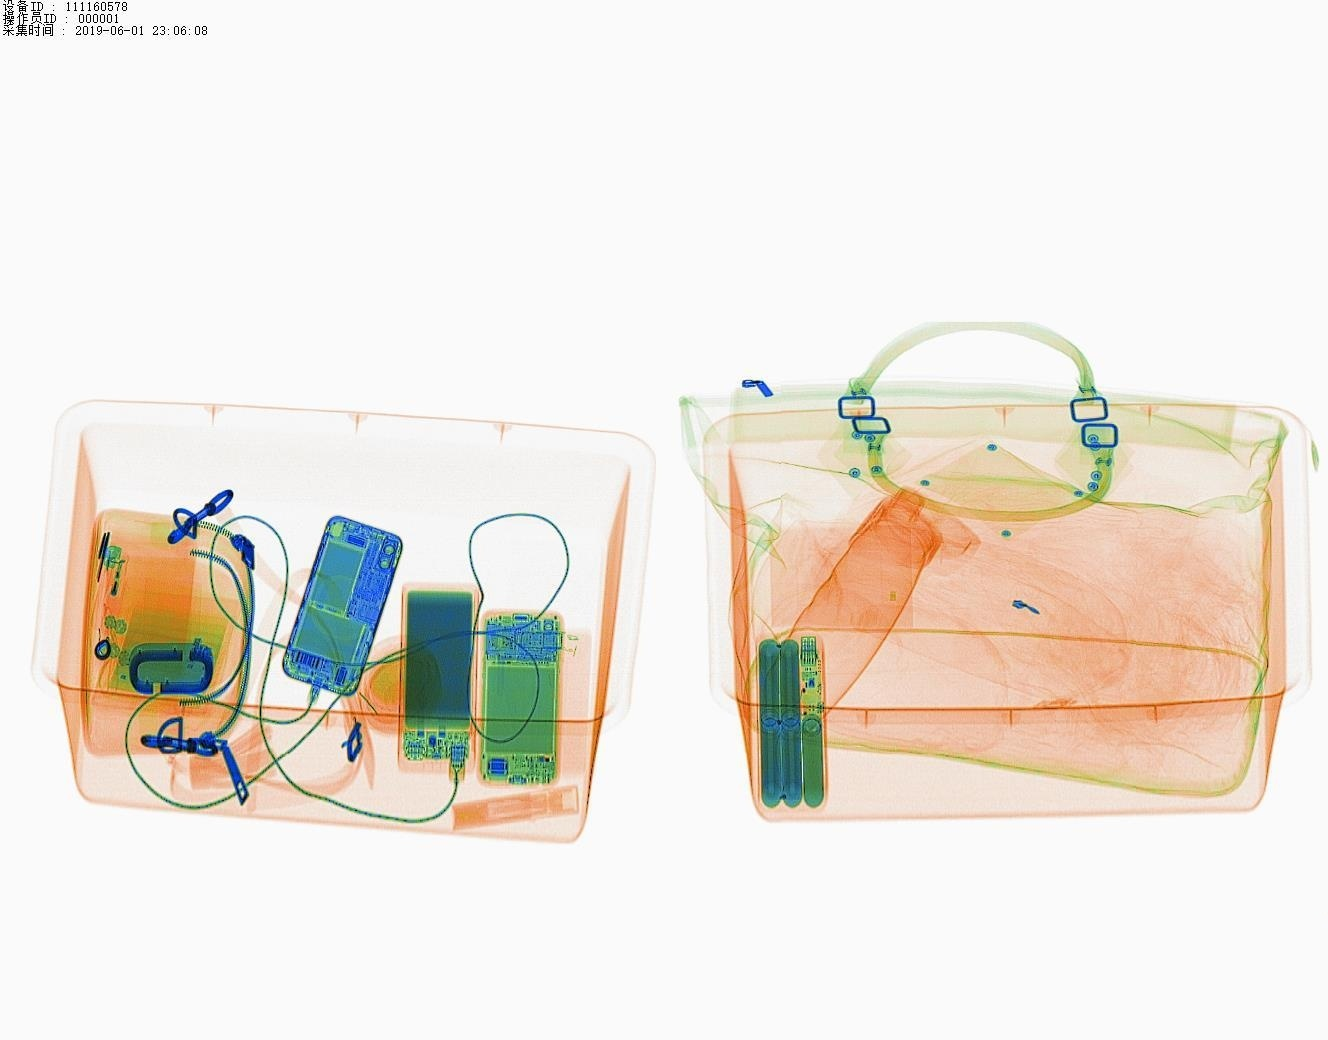NonmetallicFire: (81, 535, 153, 650)
